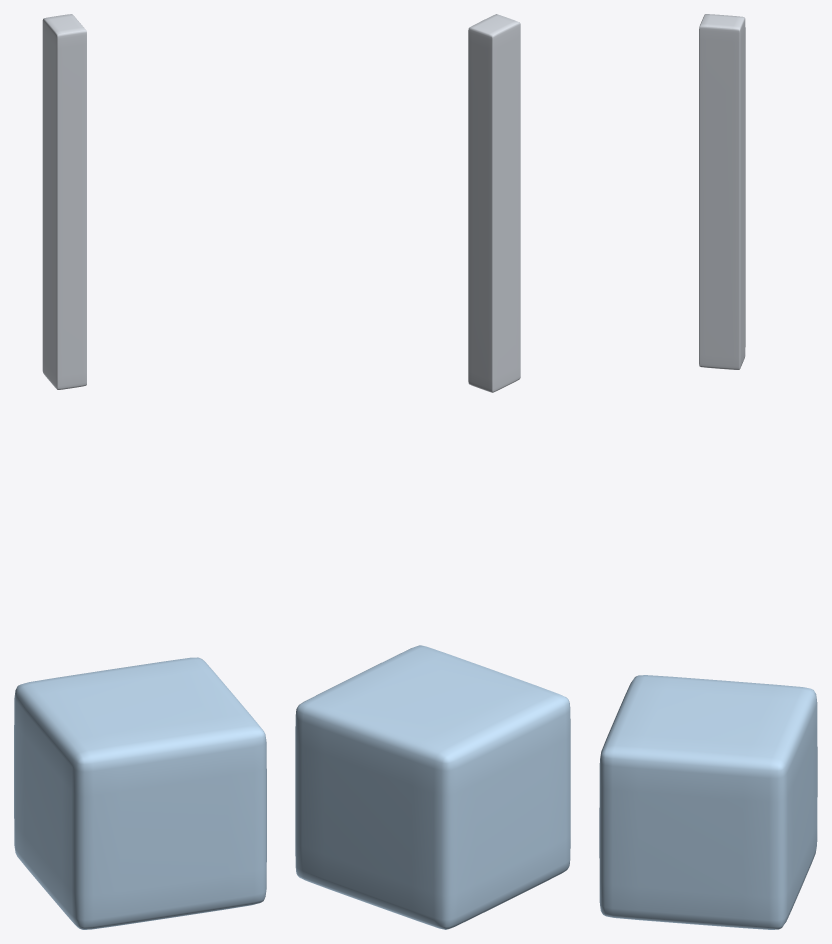
File: PROP_Stroller_v0.glb
The picture shows the model from 3 angles, left to right: view 1: azimuth 30°, elevation 25°; view 2: azimuth 150°, elevation 25°; view 3: azimuth 270°, elevation 25°; orthographic projection. The views are drawn at different scales.
Visible parts, largest first — view 1: PROP_Stroller_v0; view 2: PROP_Stroller_v0; view 3: PROP_Stroller_v0.
Boxes of the visible parts, x1,y1,x2,y2 form: PROP_Stroller_v0: (14, 14, 266, 929); PROP_Stroller_v0: (295, 14, 570, 929); PROP_Stroller_v0: (599, 14, 817, 929).
Bounding box in the file's own units: 1.13 × 4.66 × 1.1.
